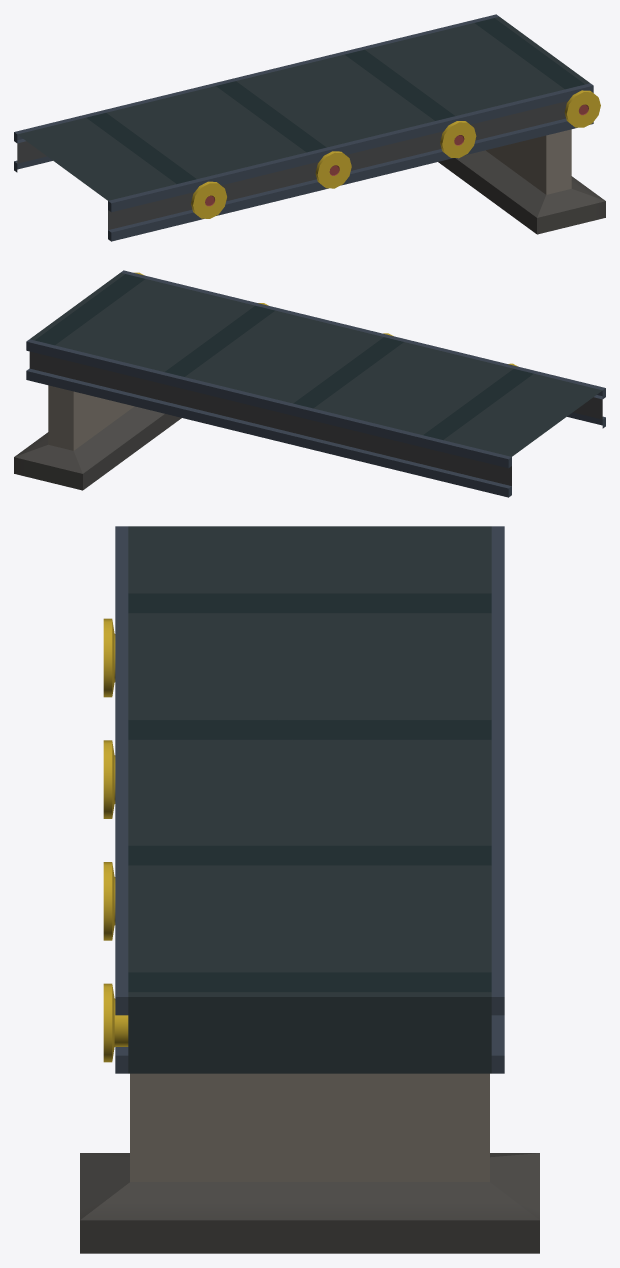
File: Conveyor_belt.fbx
3 renders of one model, top to bottom at view 1: azimuth 30°, elevation 25°; view 2: azimuth 150°, elevation 25°; view 3: azimuth 270°, elevation 25°, orthographic. The views are drawn at different scales.
Parts seen in each view (by area): view 1: belt, Cube.031, Cube.027, Cube.033, Cylinder.002; view 2: belt, Cube.031, Cube.027, Cube.033; view 3: belt, Cube.027, Cube.033, Cylinder.002, Cube.031.
Boxes of the visible parts, x1,y1,x2,y2 form: belt: (17,17,589,200); Cube.031: (14,101,593,241); Cube.027: (438,129,605,234); Cube.033: (14,14,593,212); Cylinder.002: (191,90,600,218); belt: (30,273,602,456); Cube.031: (26,351,605,497); Cube.027: (14,385,181,490); Cube.033: (26,270,605,468); belt: (128,526,491,1073); Cube.027: (80,1073,539,1253); Cube.033: (115,526,504,1015); Cylinder.002: (103,618,128,1062); Cube.031: (115,1015,504,1073).
Bounding box in the file's own units: 80.85 × 20.09 × 33.09.
